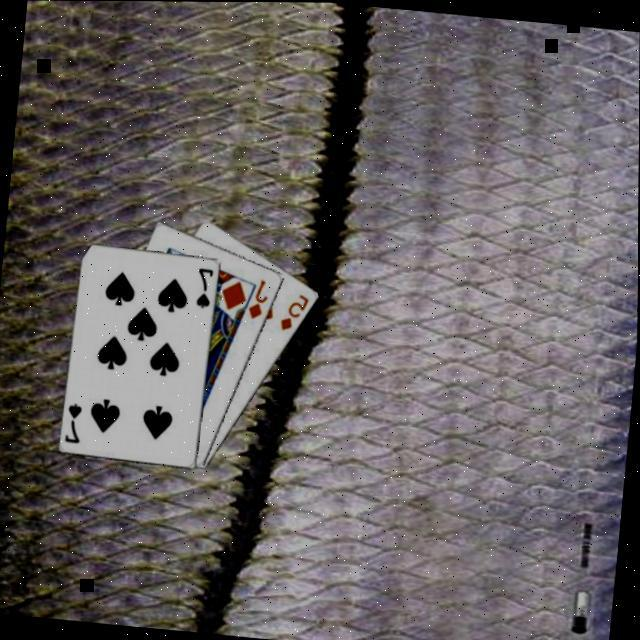5D: (279, 287, 315, 333)
7S: (194, 263, 218, 310), (64, 398, 88, 445)
JD: (246, 274, 274, 321)
